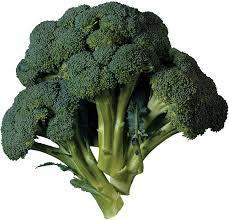broccoli: (0, 0, 228, 218)
